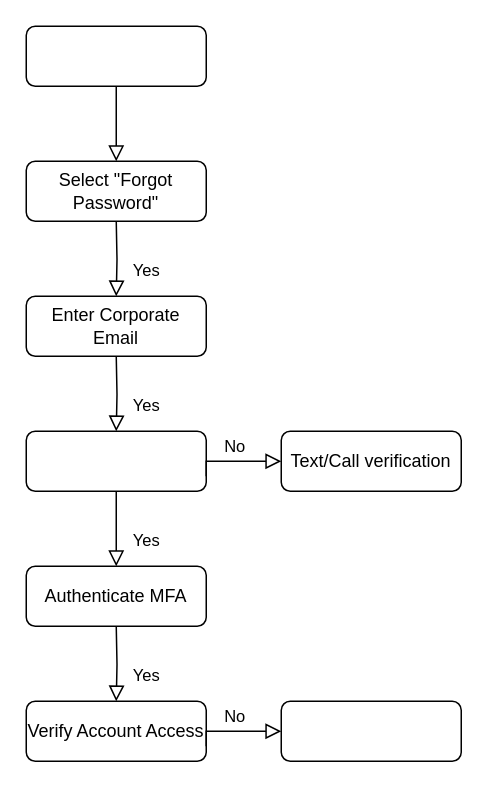
The diagram is 488 pixels wide and 788 high, and some of its shapes have lost their labels. Here are the shapes that lost their labels. From the top down, the box of each, then its label:
(25, 25, 206, 86): Navigate to Login Page
(25, 430, 206, 491): Complete Identity Verification
(280, 700, 461, 761): Contact helpdesk
